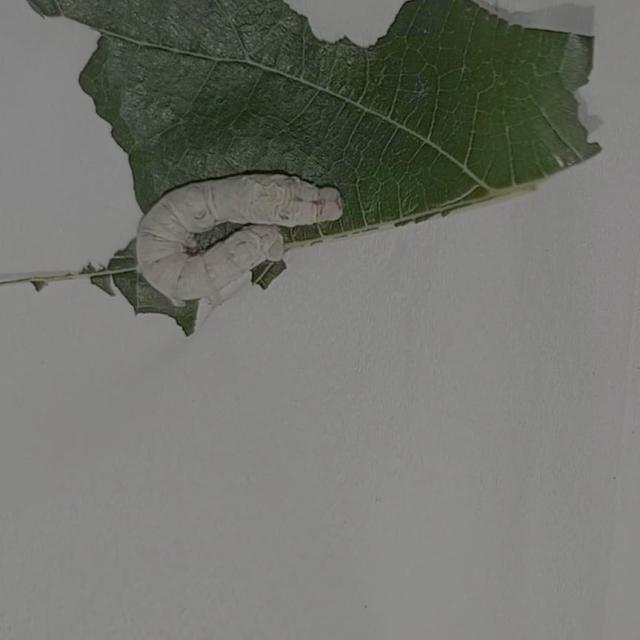Healthy: (101, 147, 368, 337)
